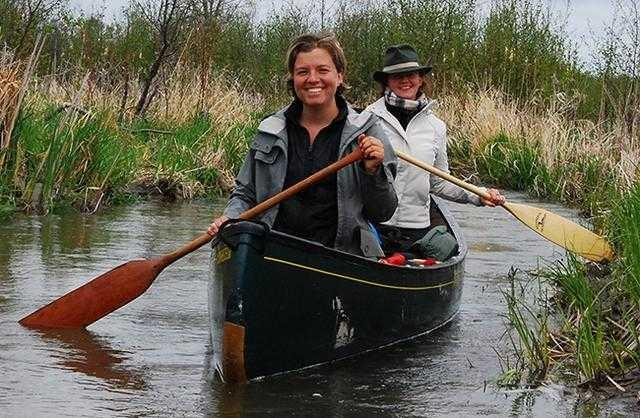kayak: (206, 216, 469, 385)
